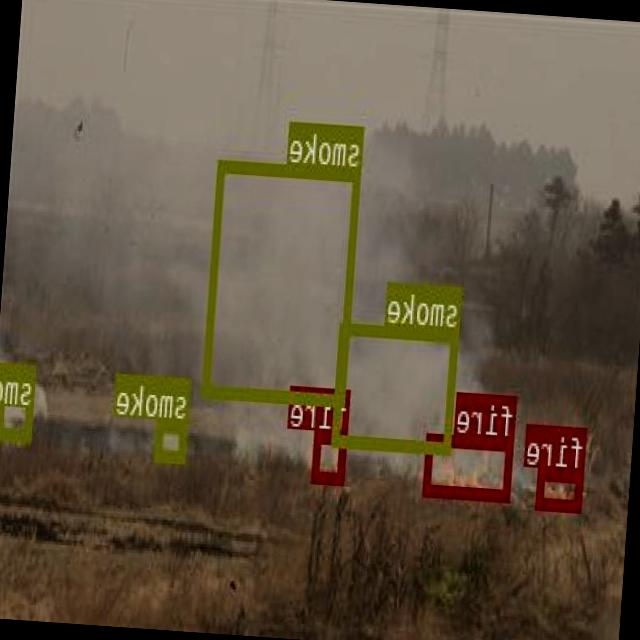fire: (424, 432, 514, 499), (538, 465, 586, 510), (312, 429, 348, 482)
smoke: (204, 158, 362, 404), (334, 320, 459, 451), (0, 362, 37, 437), (156, 419, 189, 459)
